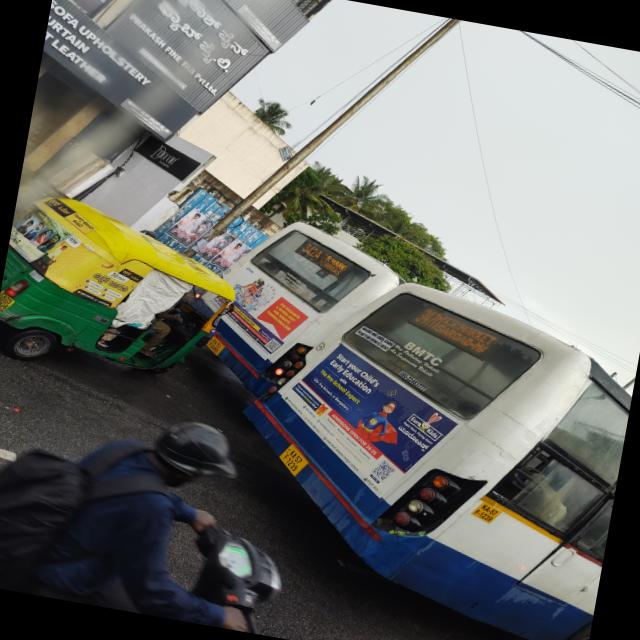bus: (212, 227, 640, 640), (180, 202, 414, 428)
display: (405, 298, 507, 362), (296, 237, 351, 277)
dnumber: (412, 304, 447, 333), (300, 240, 322, 260)
